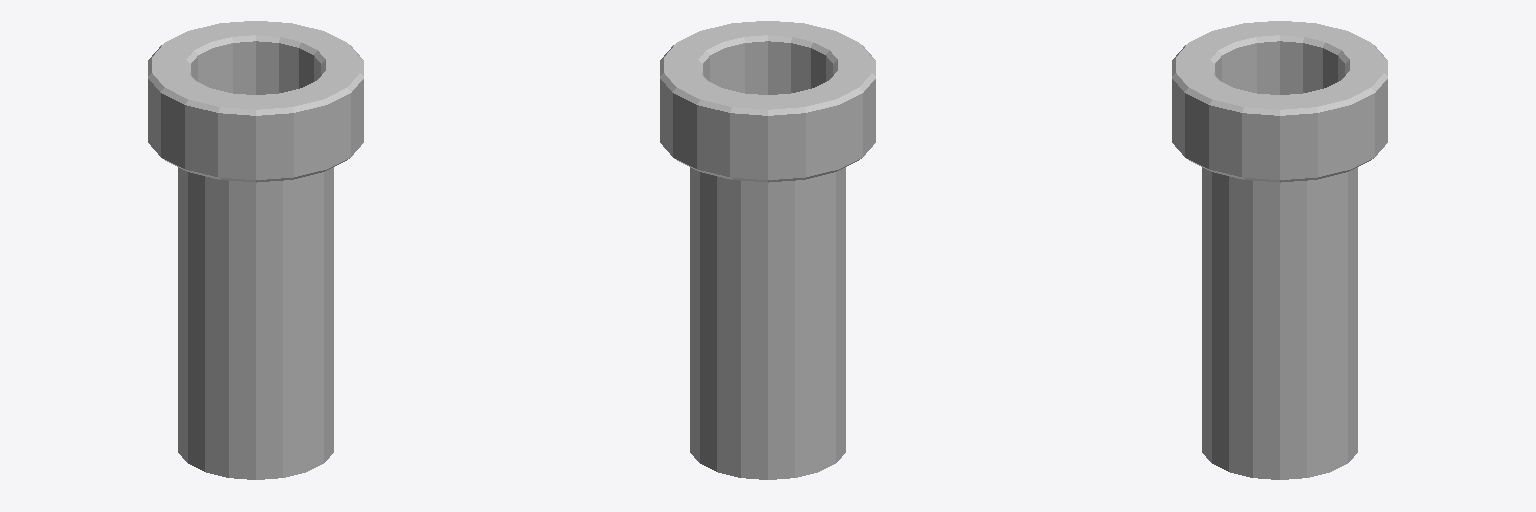
The model's file is TuboTopos.obj.
3 views of the same model, side by side, from view 1: azimuth 30°, elevation 25°; view 2: azimuth 150°, elevation 25°; view 3: azimuth 270°, elevation 25° (orthographic).
Parts seen in each view (by area): view 1: Tube003; view 2: Tube003; view 3: Tube003.
Boxes of the visible parts, box(x1,y1,x2,y2) form: Tube003: box(148, 21, 363, 479); Tube003: box(660, 21, 875, 479); Tube003: box(1172, 21, 1387, 479).
Bounding box in the file's own units: 1.87 × 3.56 × 1.84.